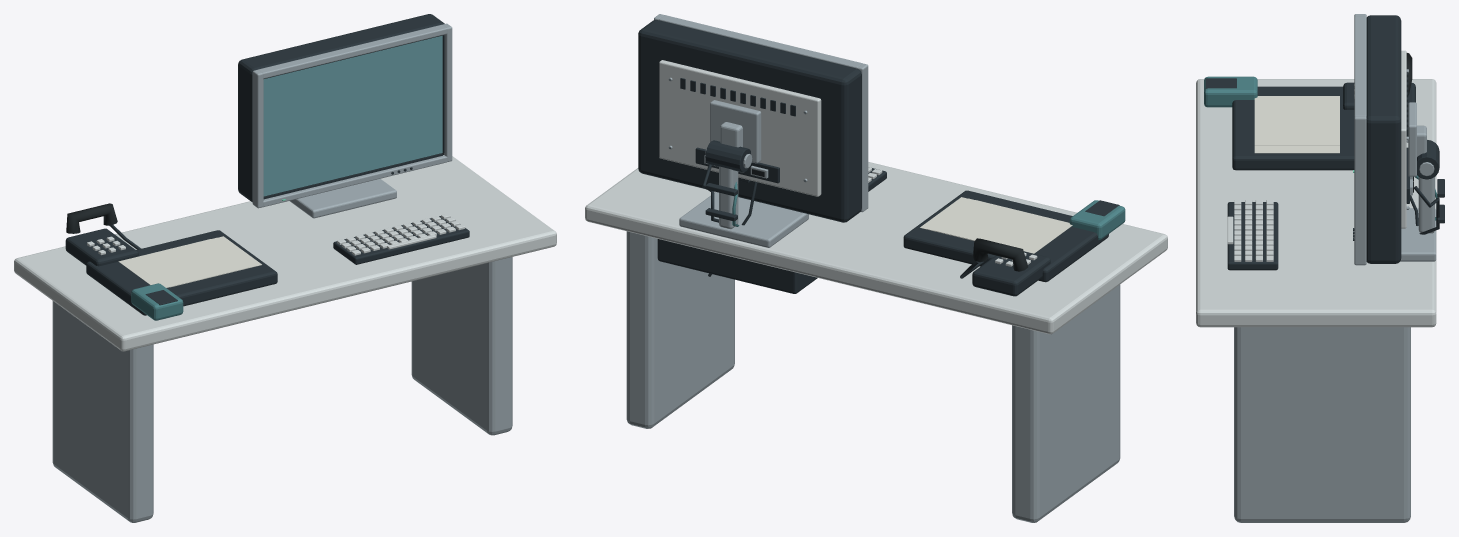
The model's file is SF_SC_IncidentReview.fbx.
3 views of the same model, side by side, from view 1: azimuth 30°, elevation 25°; view 2: azimuth 150°, elevation 25°; view 3: azimuth 270°, elevation 25° (orthographic). The views are drawn at different scales.
Visible parts, largest first — view 1: SF_SC_IncidentReview; view 2: SF_SC_IncidentReview; view 3: SF_SC_IncidentReview.
Part boxes in pixels (left/top/right/bottom): SF_SC_IncidentReview: left=14, top=14, right=556, bottom=522; SF_SC_IncidentReview: left=585, top=14, right=1167, bottom=522; SF_SC_IncidentReview: left=1196, top=14, right=1444, bottom=522.
Size of the model in its own units: 175 by 141 by 78.7.
